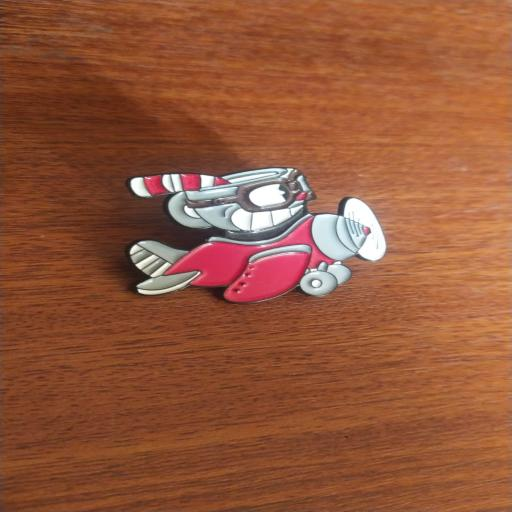Pin: (99, 157, 401, 312)
